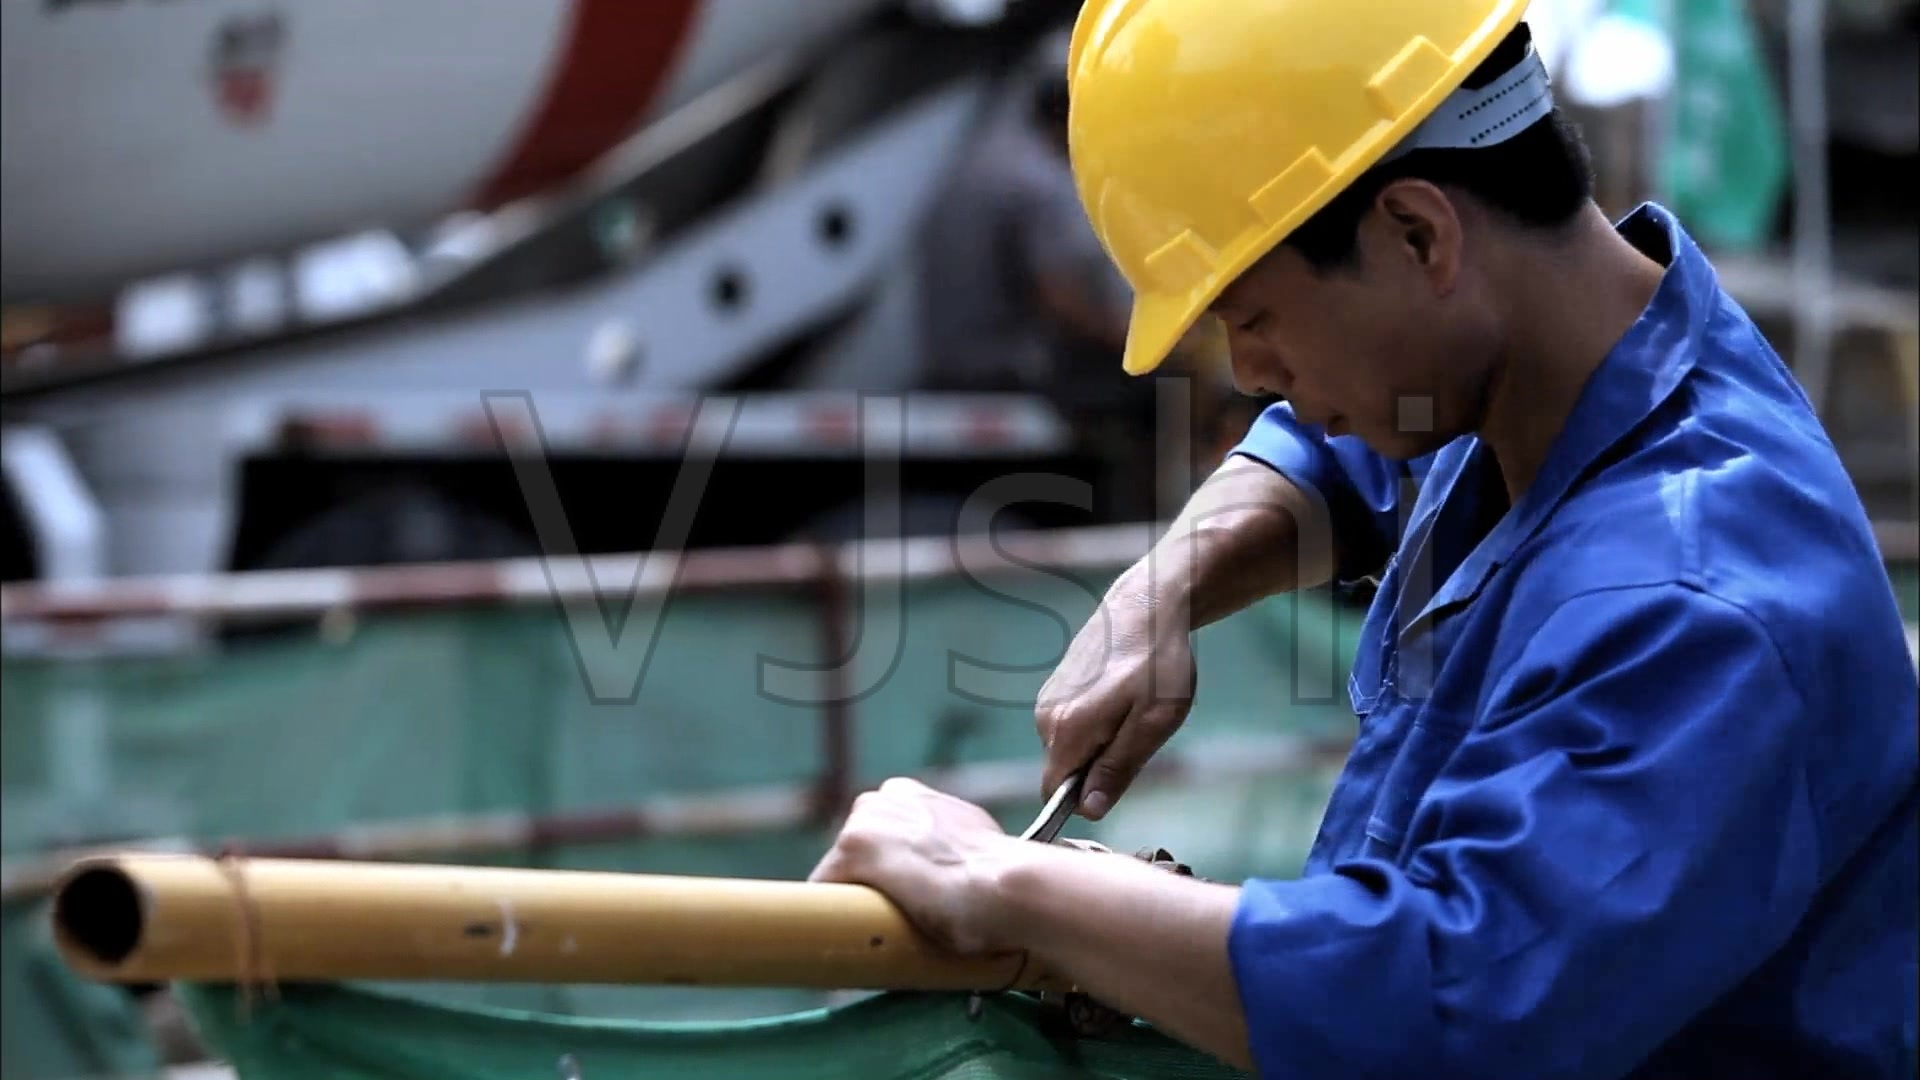safetyhat: (905, 1, 1894, 1042)
